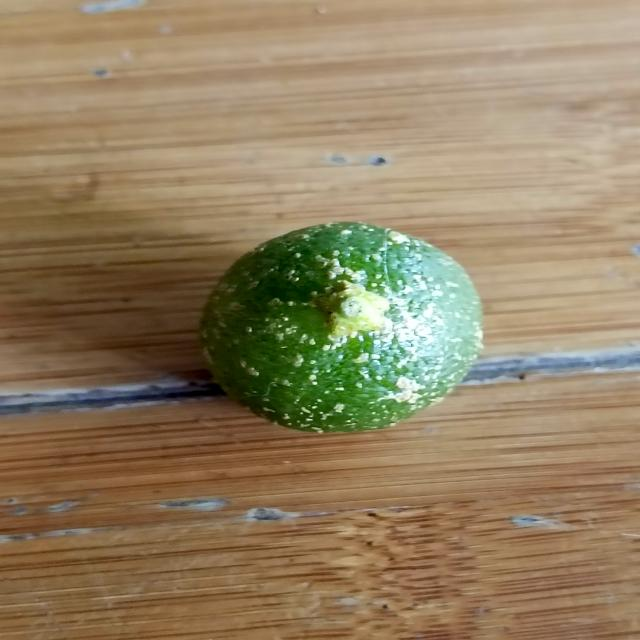scab: (186, 213, 507, 434)
